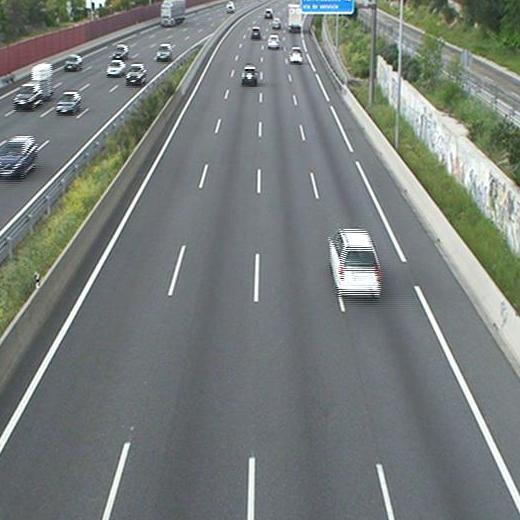car: (327, 228, 383, 300), (241, 65, 259, 88), (289, 47, 303, 65), (266, 34, 281, 50)
